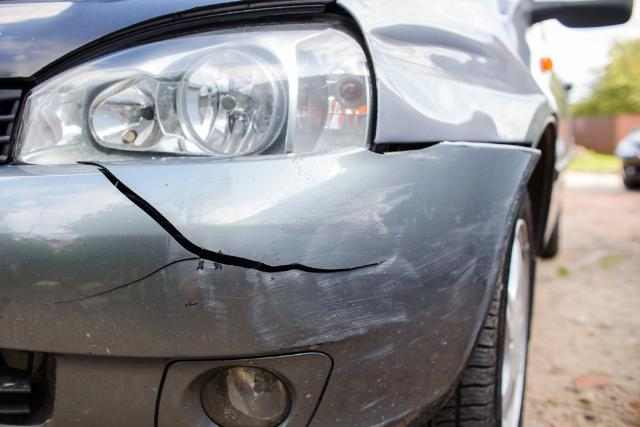crack: (36, 161, 388, 308)
dent: (366, 25, 548, 140)
scratch: (161, 178, 523, 427)
